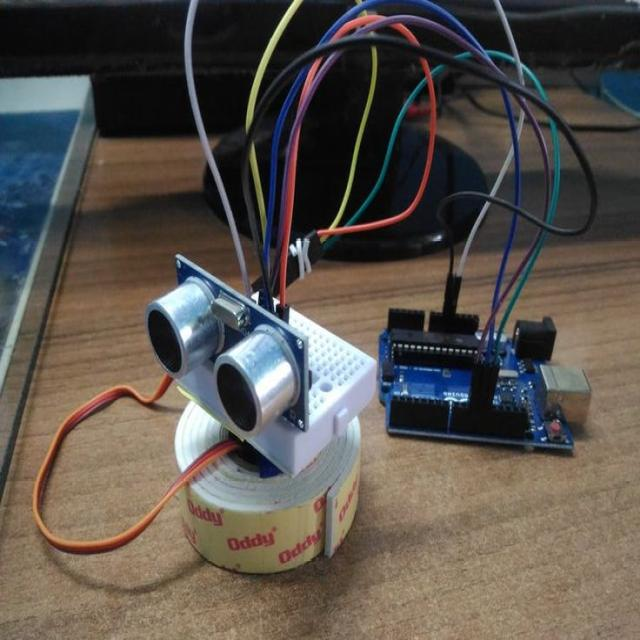Arduino: (376, 293, 609, 472)
Ultrasonic Sensor: (137, 231, 314, 476)
